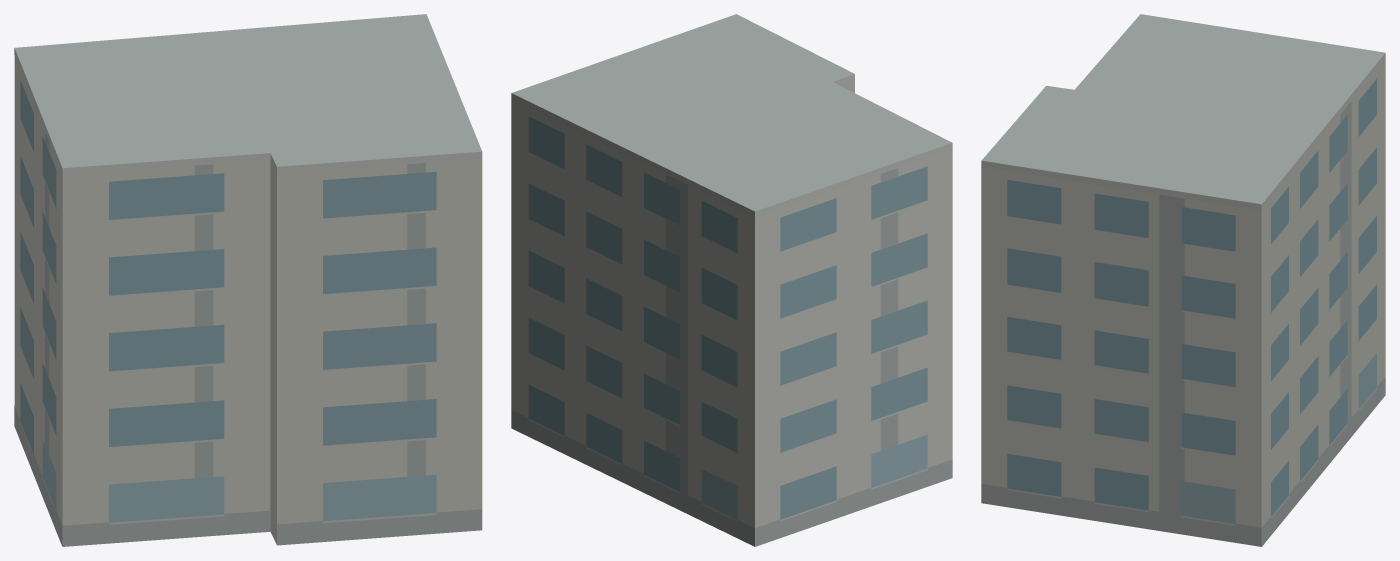
The model's file is survey-upis-32888557.glb.
The picture shows the model from 3 angles, left to right: view 1: azimuth 30°, elevation 25°; view 2: azimuth 150°, elevation 25°; view 3: azimuth 270°, elevation 25°; orthographic projection. The views are drawn at different scales.
Parts seen in each view (by area): view 1: survey-upis-32888557.tmp; view 2: survey-upis-32888557.tmp; view 3: survey-upis-32888557.tmp.
Part boxes in pixels (box(x1,y1,x2,y2)): survey-upis-32888557.tmp: box(14, 14, 482, 546); survey-upis-32888557.tmp: box(511, 14, 952, 546); survey-upis-32888557.tmp: box(981, 14, 1385, 546).
Size of the model in its own units: 15.62 by 13.1 by 14.01.
